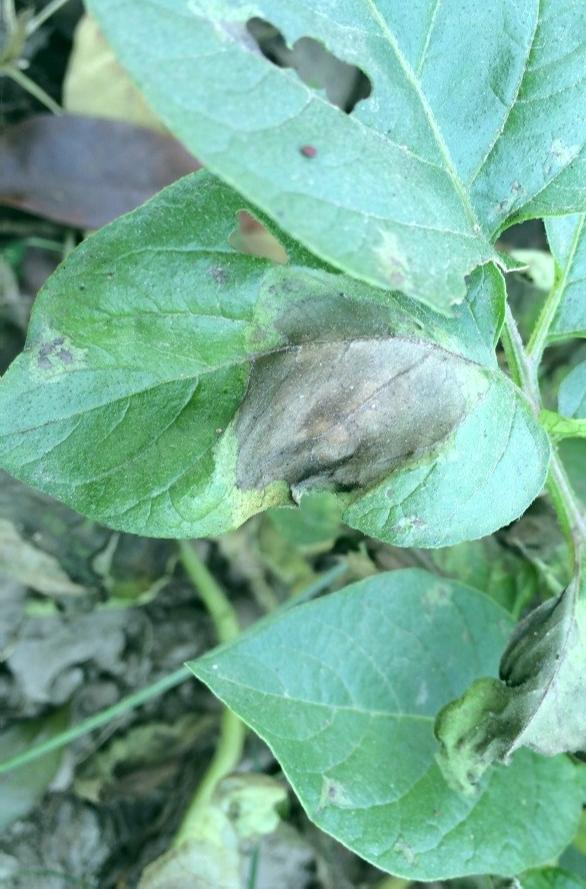Tomato leaf late blight: (192, 323, 573, 564), (441, 557, 586, 790)
